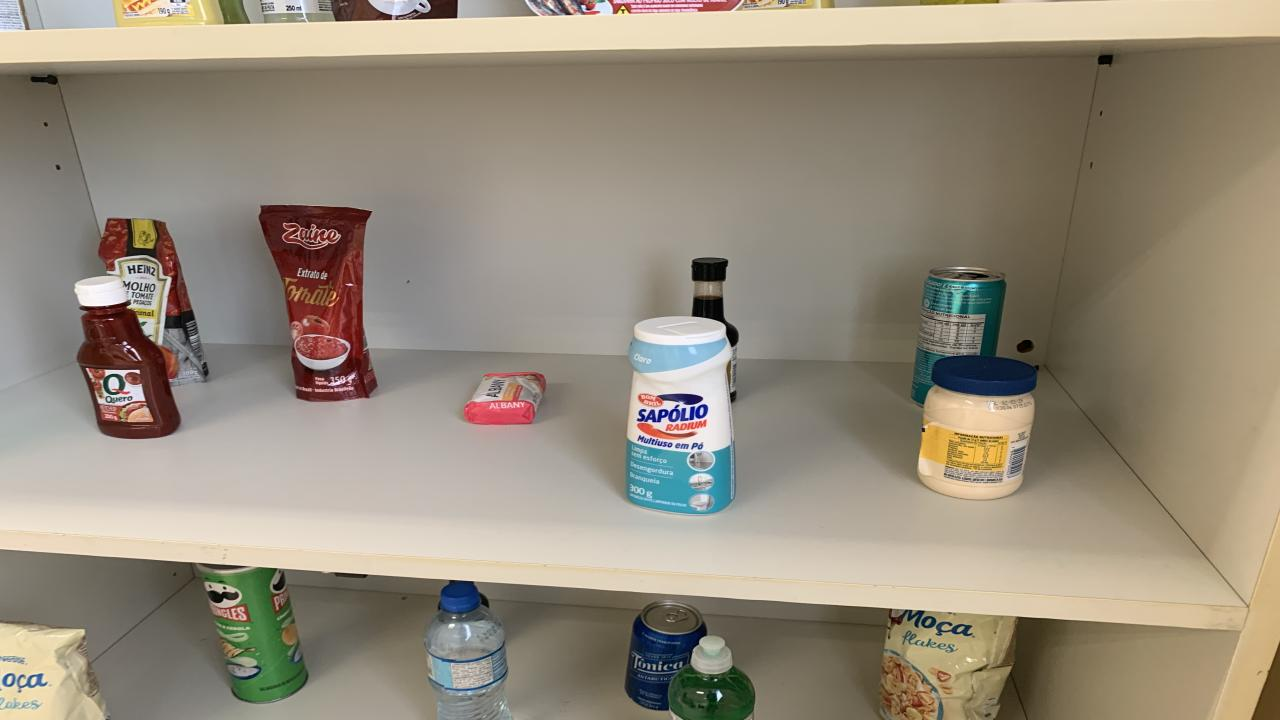Cleaner-Cleanup_Items: (625, 317, 735, 514)
Coffee-Pantry_Items: (332, 0, 458, 21)
Detergent-Cleanup_Items: (668, 636, 755, 720)
English_Sauce-Pantry_Items: (692, 257, 740, 401)
Flakes-Snacks: (880, 609, 1018, 720), (0, 621, 108, 720)
Ketchup-Pantry_Items: (75, 276, 180, 439)
Mayonnaise-Pantry_Items: (918, 354, 1038, 499)
Mustard-Pantry_Items: (112, 0, 225, 26)
Pringles-Snacks: (198, 564, 308, 703)
Soap-Cleanup_Items: (465, 373, 545, 424)
Soda-Drinks: (260, 0, 335, 22)
Tea-Drinks: (910, 266, 1008, 405)
Tomato_Sauce-Pantry_Items: (260, 206, 378, 401), (98, 218, 208, 386)
Tonic-Drinks: (625, 600, 708, 711)
Tuna_Can-Pantry_Items: (528, 0, 745, 15)
Water_Bottle-Drinks: (425, 581, 512, 720)
